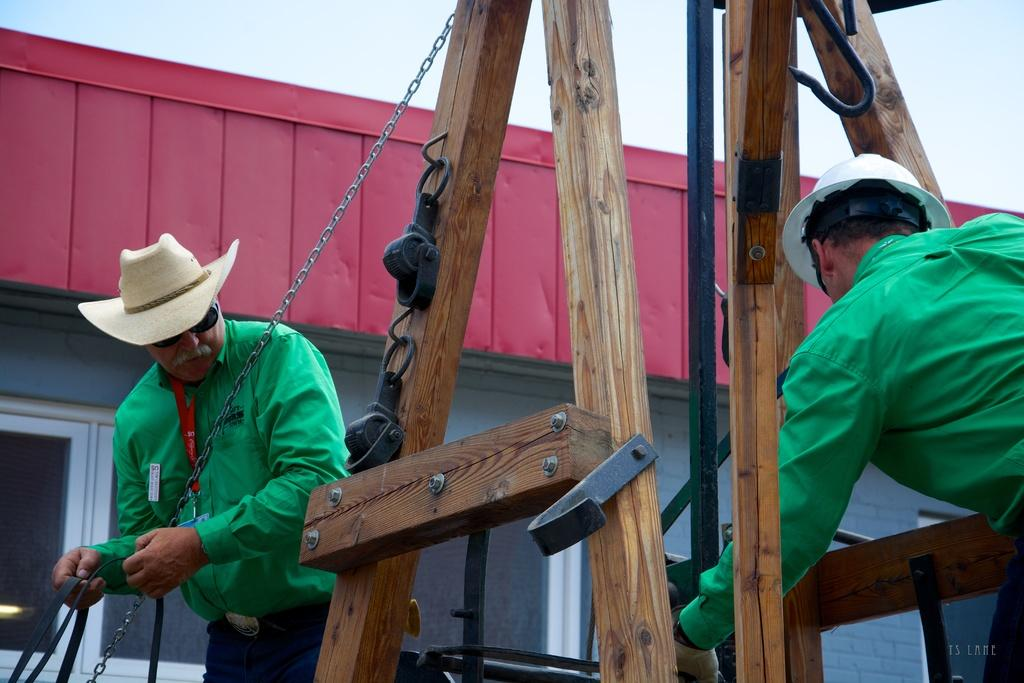helmet: (781, 153, 952, 310)
nohelmet: (107, 232, 240, 381)
